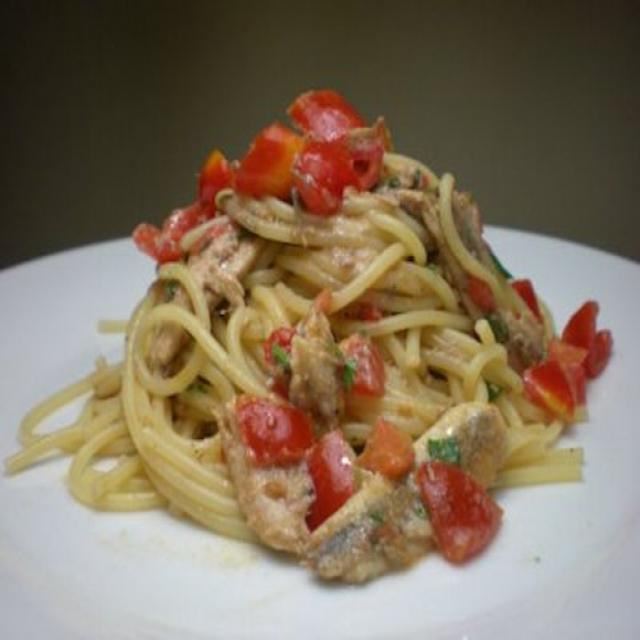Oil pasta: (116, 69, 612, 617)
